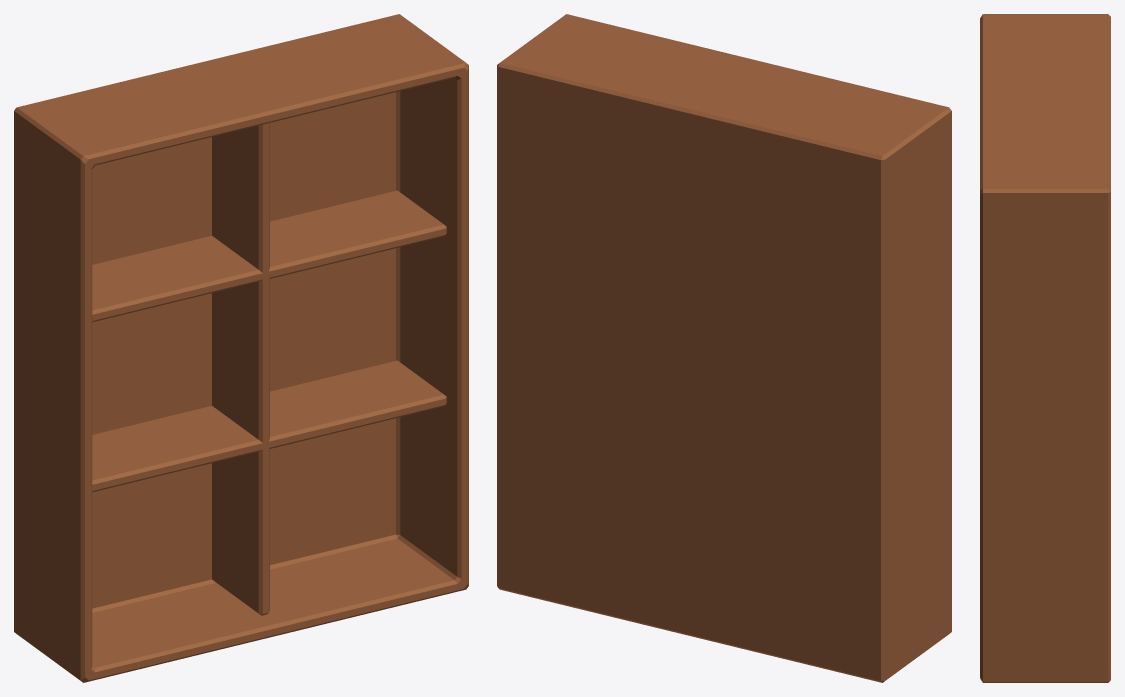
File: Shelf E.glb
3 views of the same model, side by side, from view 1: azimuth 30°, elevation 25°; view 2: azimuth 150°, elevation 25°; view 3: azimuth 270°, elevation 25° (orthographic). The views are drawn at different scales.
Visible parts, largest first — view 1: Shelf E; view 2: Shelf E; view 3: Shelf E.
Part boxes in pixels (<box>): Shelf E: <box>14,14,468,682</box>; Shelf E: <box>497,14,951,682</box>; Shelf E: <box>980,14,1110,682</box>.
Size of the model in its own units: 1.23 by 1.59 by 0.3829.
